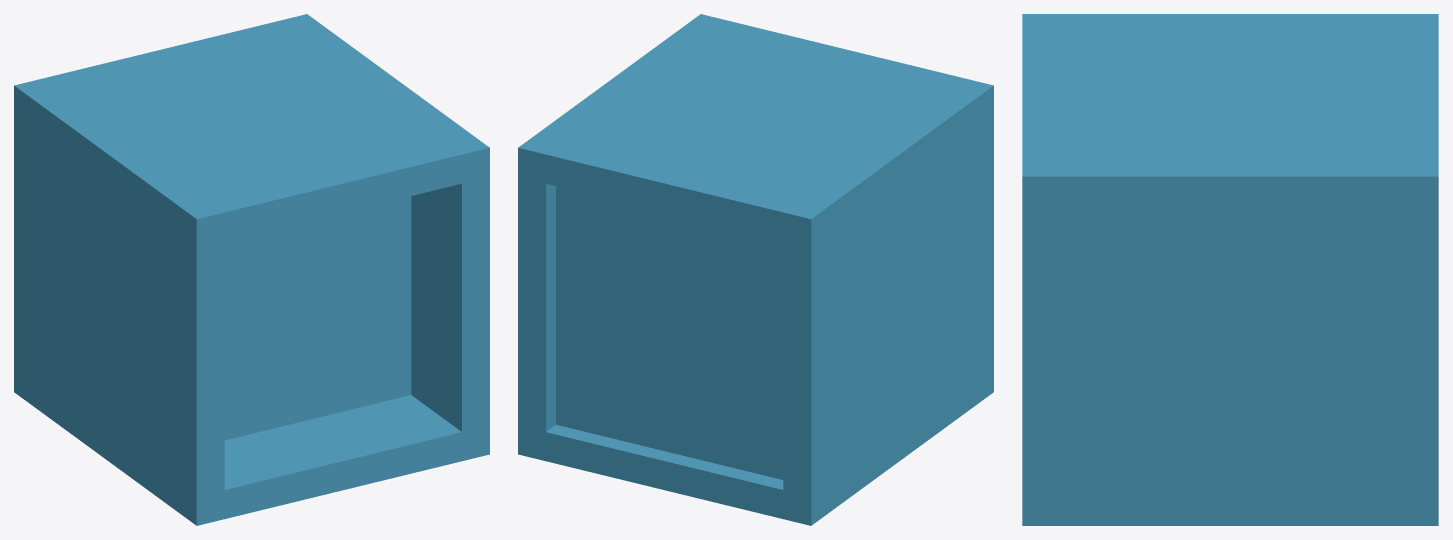
Rendered from FacadeKit_MidriseWindowBand_LOD1.glb.
3 renders of one model, left to right at view 1: azimuth 30°, elevation 25°; view 2: azimuth 150°, elevation 25°; view 3: azimuth 270°, elevation 25°, orthographic. The views are drawn at different scales.
Parts seen in each view (by area): view 1: FacadeKit_MidriseWindowBand_LOD1; view 2: FacadeKit_MidriseWindowBand_LOD1; view 3: FacadeKit_MidriseWindowBand_LOD1.
Boxes of the visible parts, bbox=[...] form: FacadeKit_MidriseWindowBand_LOD1: bbox=[14, 14, 489, 525]; FacadeKit_MidriseWindowBand_LOD1: bbox=[518, 14, 993, 525]; FacadeKit_MidriseWindowBand_LOD1: bbox=[1022, 14, 1438, 525].
Bounding box in the file's own units: 1 × 1 × 1.08.
